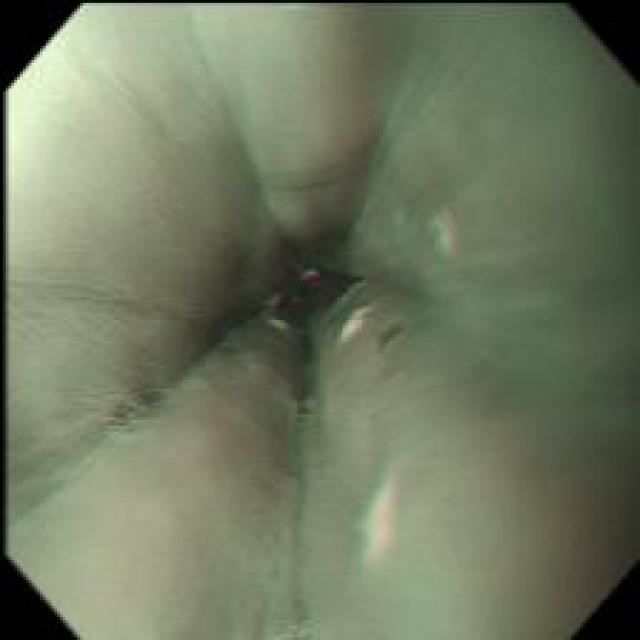blur: (4, 0, 639, 638)
color misalignment: (265, 166, 352, 201), (338, 304, 374, 346), (374, 318, 411, 354), (290, 255, 328, 288), (258, 282, 286, 318)
